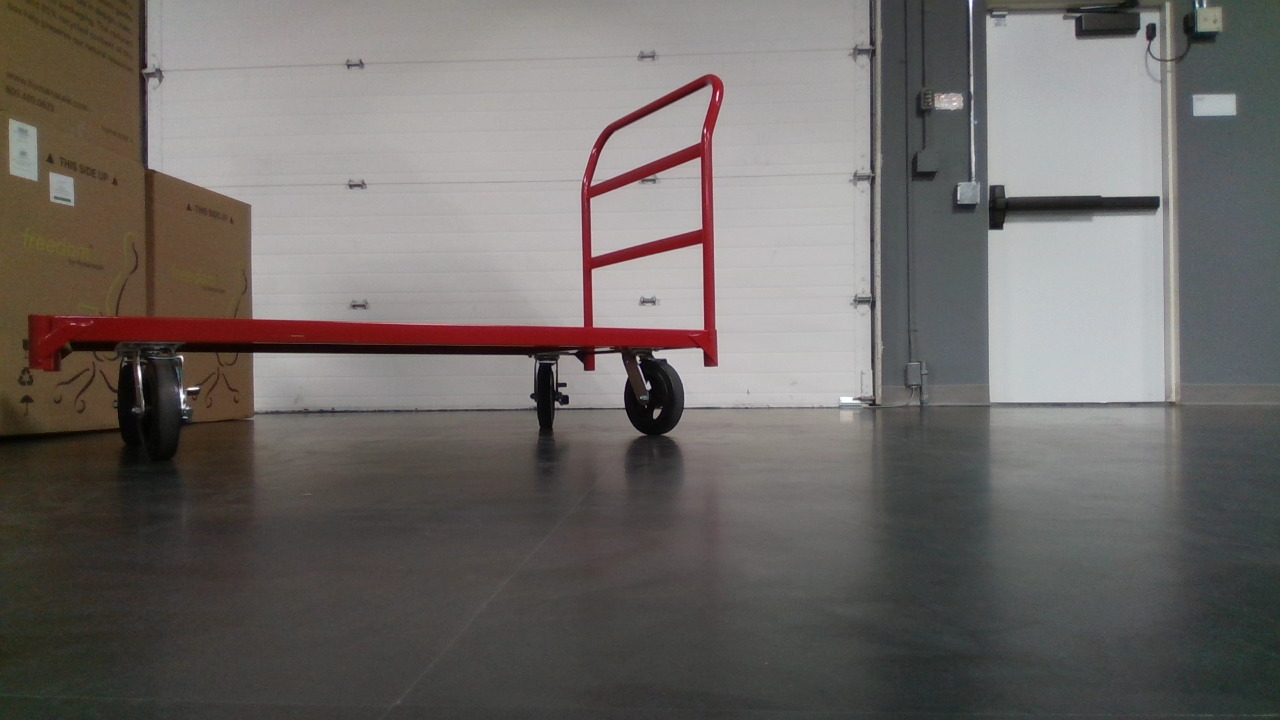Dolly: (19, 65, 723, 456)
Wheel: (138, 356, 198, 454), (621, 353, 686, 436), (532, 358, 570, 430), (118, 359, 141, 446)
